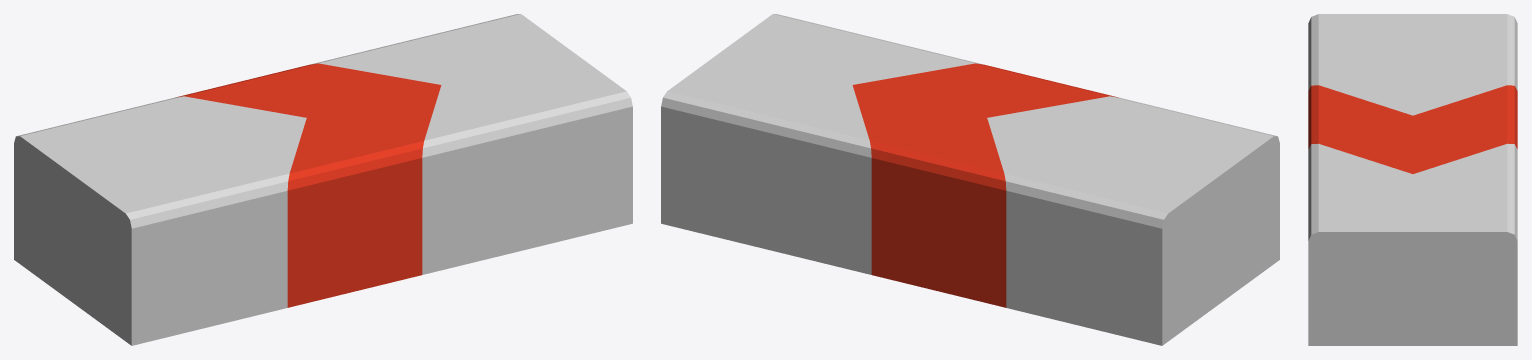
The model's file is NormalRoad.fbx.
3 renders of one model, left to right at view 1: azimuth 30°, elevation 25°; view 2: azimuth 150°, elevation 25°; view 3: azimuth 270°, elevation 25°, orthographic. The views are drawn at different scales.
Parts seen in each view (by area): view 1: NormalRoad; view 2: NormalRoad; view 3: NormalRoad.
Boxes of the visible parts, box(x1,y1,x2,y2) form: NormalRoad: box(14, 14, 632, 345); NormalRoad: box(661, 14, 1279, 345); NormalRoad: box(1308, 14, 1517, 345).
Size of the model in its own units: 582 by 142 by 237.
